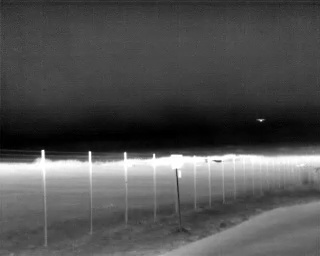AIRPLANE: (256, 116, 266, 124)
